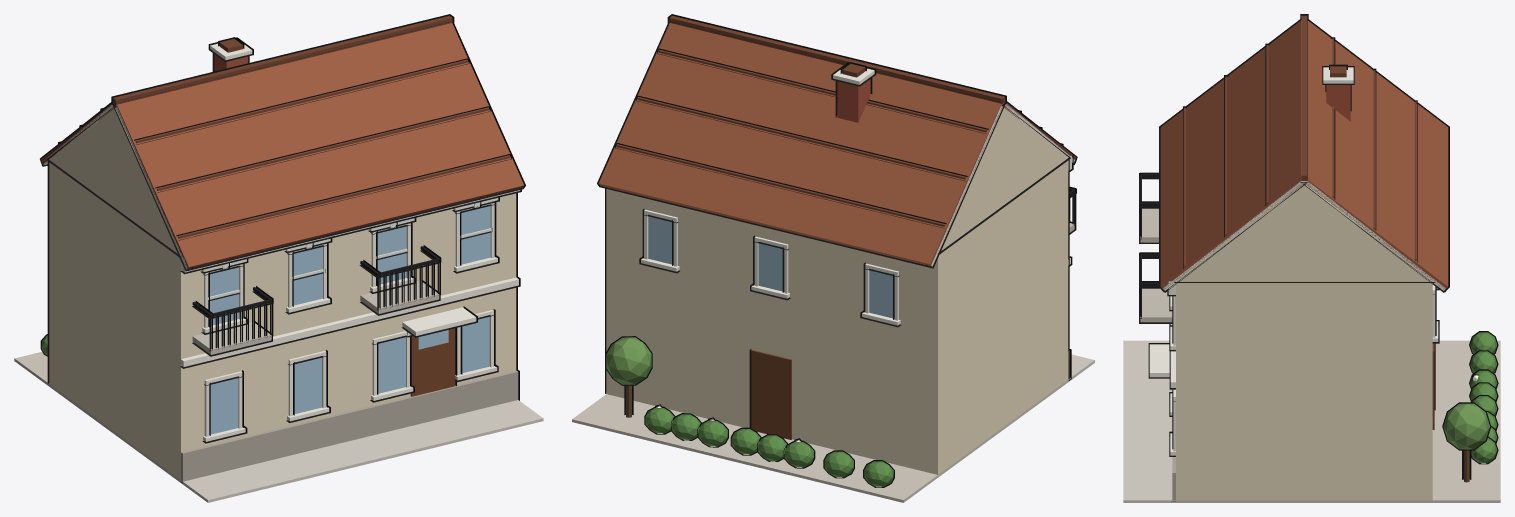
File: Blok_duz_2k_1.fbx
The picture shows the model from 3 angles, left to right: view 1: azimuth 30°, elevation 25°; view 2: azimuth 150°, elevation 25°; view 3: azimuth 270°, elevation 25°; orthographic projection. The views are drawn at different scales.
Visible parts, largest first — view 1: Blok_duz_2k_1; view 2: Blok_duz_2k_1; view 3: Blok_duz_2k_1.
Part boxes in pixels (x1=…): Blok_duz_2k_1: x1=14, y1=14, x2=543, y2=502; Blok_duz_2k_1: x1=572, y1=14, x2=1094, y2=502; Blok_duz_2k_1: x1=1123, y1=14, x2=1500, y2=502.
Bounding box in the file's own units: 10.14 × 9.89 × 10.
